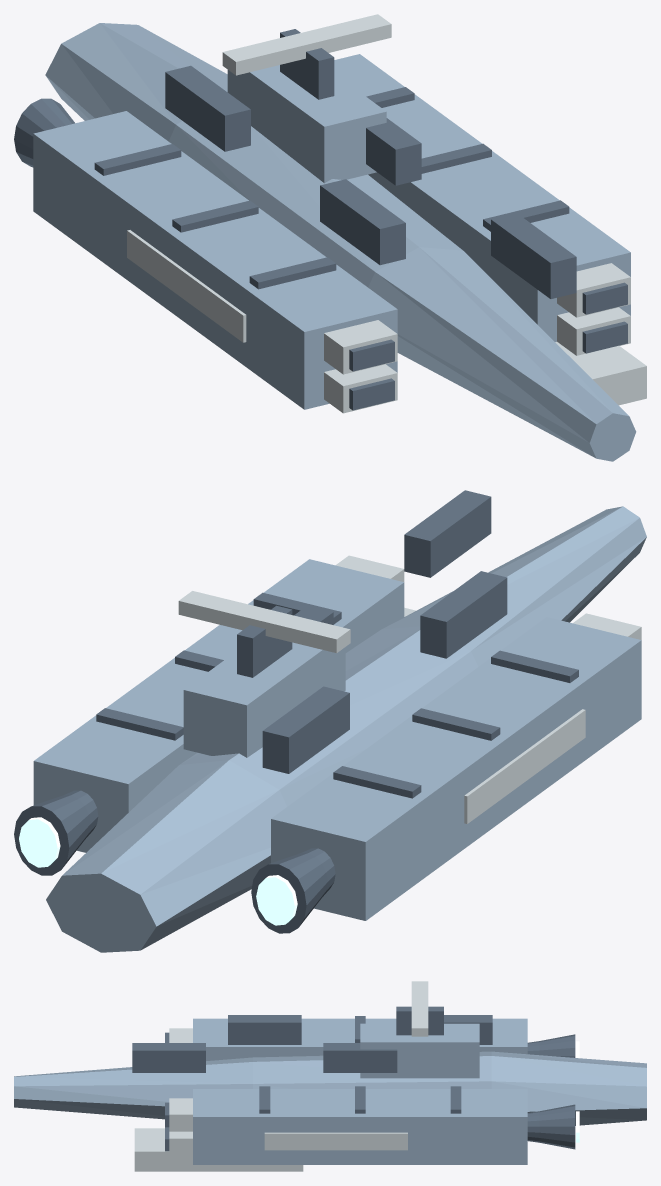
3 views of the same model, one above another, from view 1: azimuth 30°, elevation 25°; view 2: azimuth 150°, elevation 25°; view 3: azimuth 270°, elevation 25° (orthographic). The views are drawn at different scales.
Bounding box in the file's own units: 7.71 × 4.82 × 20.6.
